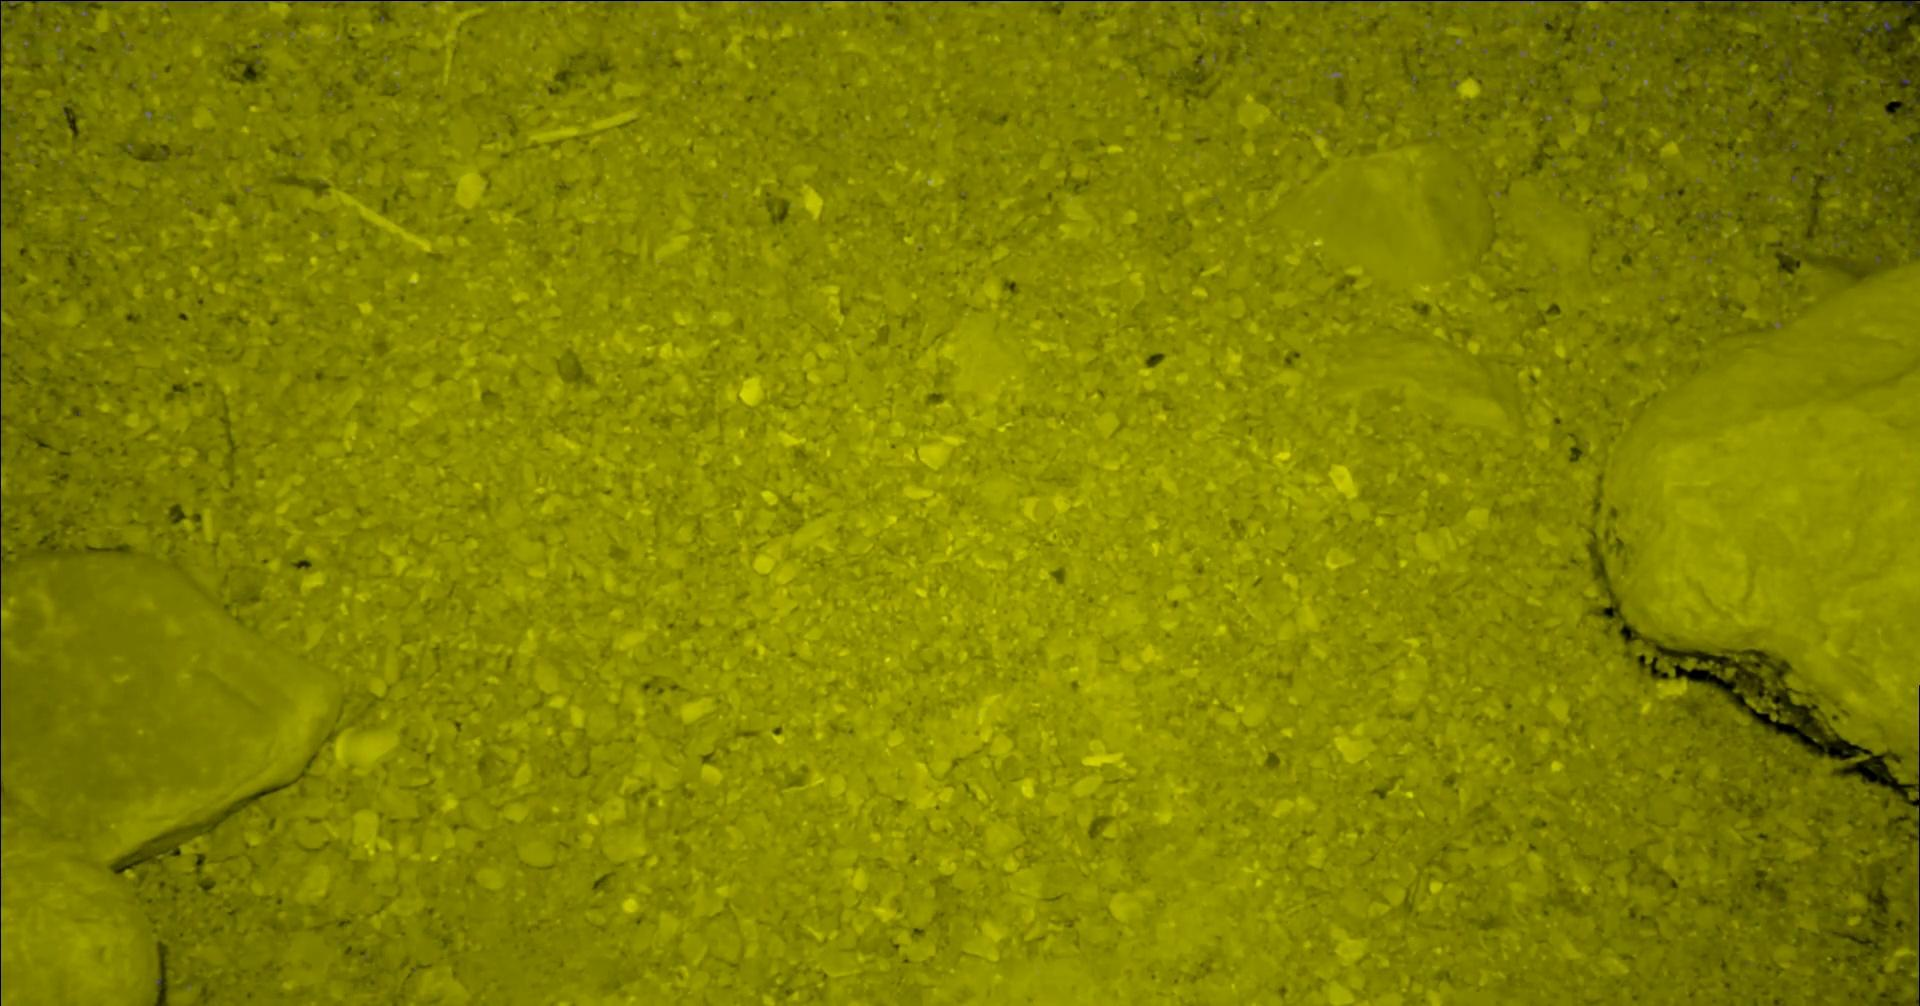ant: (0, 0, 102, 19), (1601, 0, 1823, 8), (1445, 0, 1585, 3), (1917, 840, 1919, 970), (0, 159, 1, 231), (0, 542, 1, 593)
